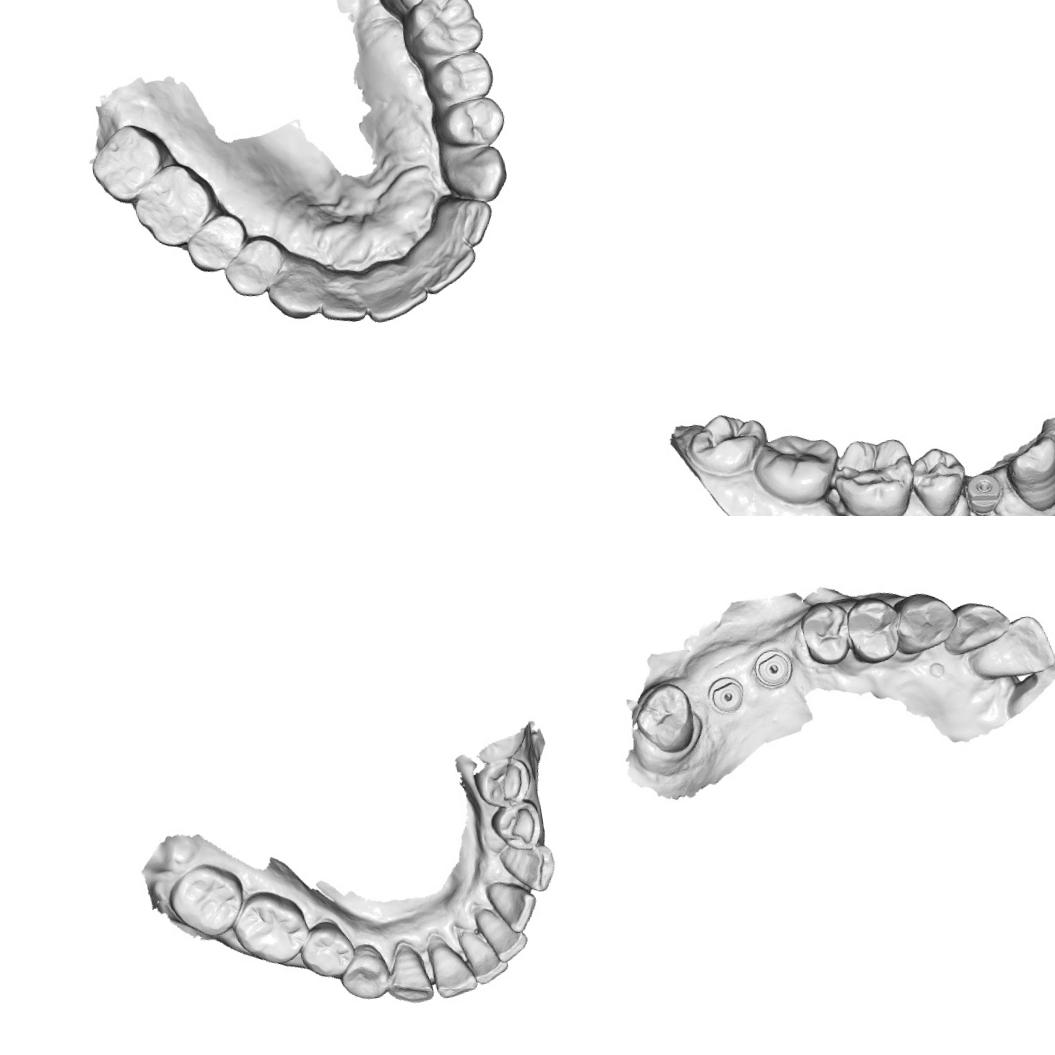canine: (889, 586, 962, 661), (436, 142, 514, 208), (999, 431, 1055, 516), (262, 256, 325, 327), (378, 937, 440, 1009), (491, 837, 559, 899)
implant: (750, 644, 797, 694), (702, 671, 750, 718), (962, 470, 1007, 516)
incisor: (962, 609, 1055, 686), (936, 594, 1017, 660), (359, 268, 438, 327), (455, 918, 513, 986), (416, 238, 482, 297), (482, 875, 542, 939), (472, 902, 531, 967), (425, 936, 479, 1002), (314, 278, 374, 334), (448, 193, 496, 252)
molar: (124, 156, 224, 258), (82, 116, 176, 210), (746, 424, 845, 511), (824, 429, 921, 516), (160, 857, 250, 945), (227, 885, 313, 973), (682, 406, 774, 480), (627, 676, 705, 760), (406, 0, 490, 61)
premolar: (216, 229, 296, 304), (178, 205, 256, 280), (903, 439, 972, 516), (794, 592, 860, 672), (842, 590, 909, 668), (430, 91, 511, 154), (421, 48, 497, 109), (484, 790, 551, 858), (333, 938, 396, 1010), (294, 916, 358, 986), (471, 754, 537, 814)
